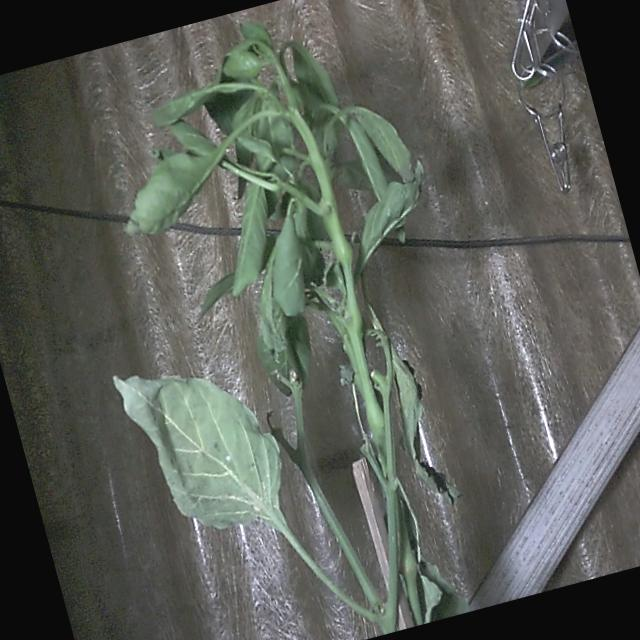Leaf: (110, 338, 296, 548), (379, 341, 464, 514), (108, 140, 238, 242)
